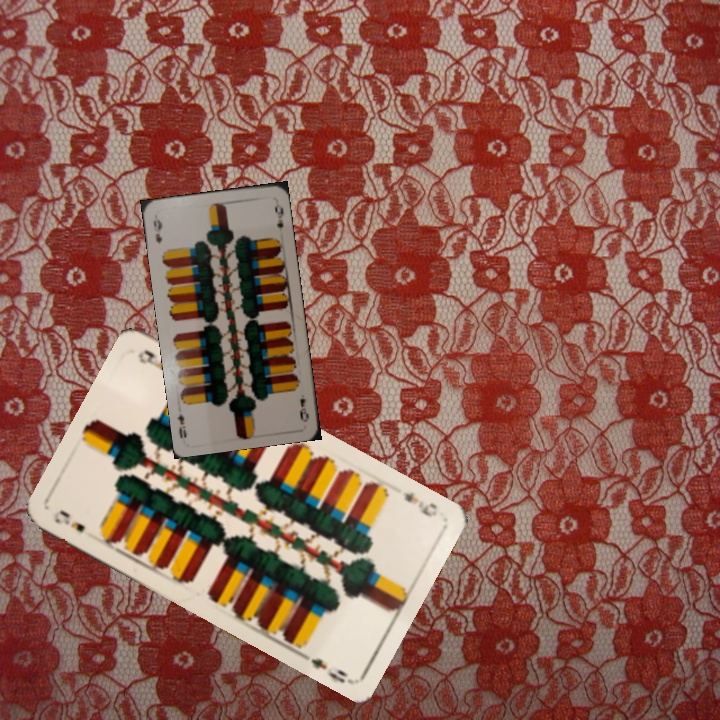E9: (398, 488, 441, 520), (50, 505, 88, 536), (149, 216, 165, 246), (296, 394, 311, 425)
